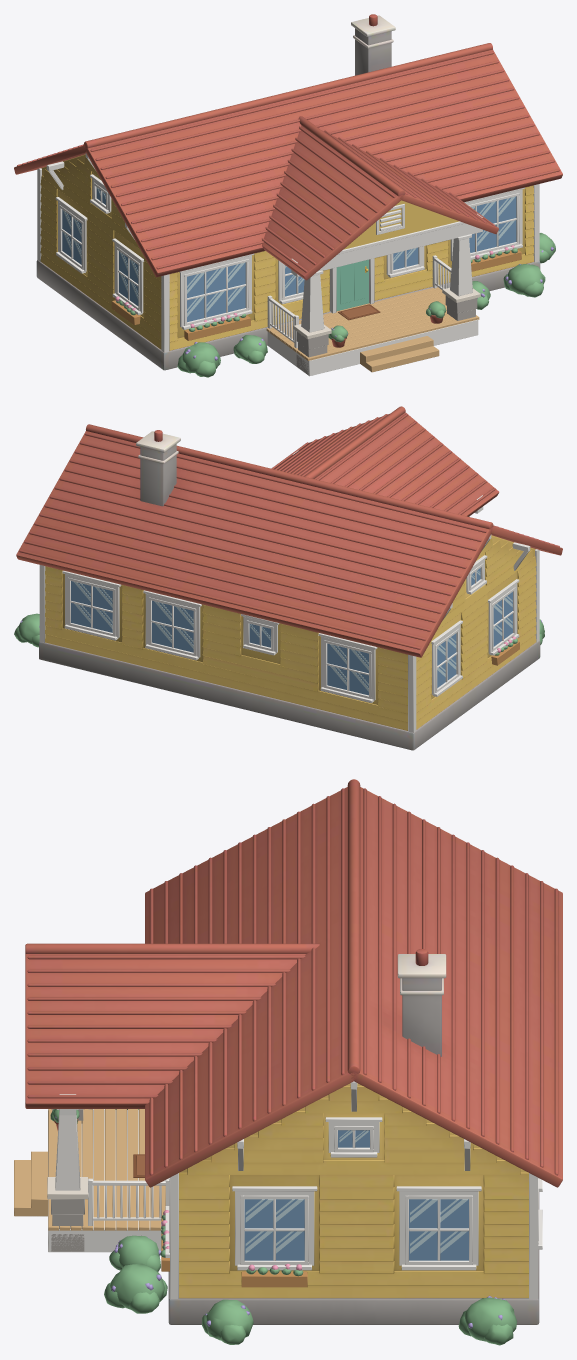
Rendered from bungalow.glb.
3 views of the same model, one above another, from view 1: azimuth 30°, elevation 25°; view 2: azimuth 150°, elevation 25°; view 3: azimuth 270°, elevation 25° (orthographic). The views are drawn at different scales.
Visible parts, largest first — view 1: bungalow_body, bungalow_details, bungalow_plants, bungalow_glints, bungalow_door_l, bungalow_frame; view 2: bungalow_body, bungalow_details, bungalow_glints, bungalow_plants; view 3: bungalow_body, bungalow_details, bungalow_plants, bungalow_glints.
Part boxes in pixels (x1,y1,x2,y2): bungalow_body: [14, 14, 562, 370]; bungalow_details: [37, 153, 539, 376]; bungalow_plants: [177, 233, 555, 377]; bungalow_glints: [63, 187, 515, 316]; bungalow_door_l: [336, 259, 368, 310]; bungalow_frame: [330, 258, 374, 313]; bungalow_body: [16, 406, 562, 750]; bungalow_details: [39, 450, 539, 732]; bungalow_glints: [74, 570, 512, 691]; bungalow_plants: [14, 613, 544, 647]; bungalow_body: [25, 779, 562, 1324]; bungalow_details: [14, 1081, 542, 1299]; bungalow_plants: [50, 1109, 517, 1345]; bungalow_glints: [245, 1130, 467, 1253].
Size of the model in its own units: 12.66 by 6.2 by 9.69.
20 materials, 1 textured.
